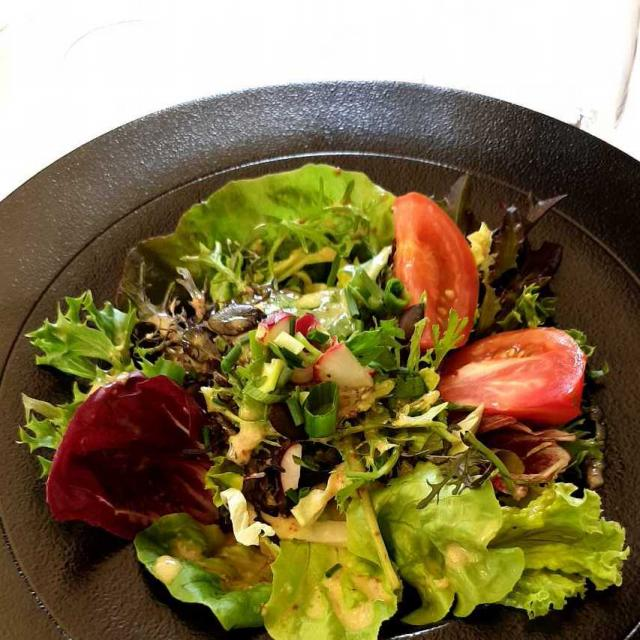salad-leaf-salad-green: (30, 168, 622, 637)
tomato-raw: (388, 187, 591, 424)
